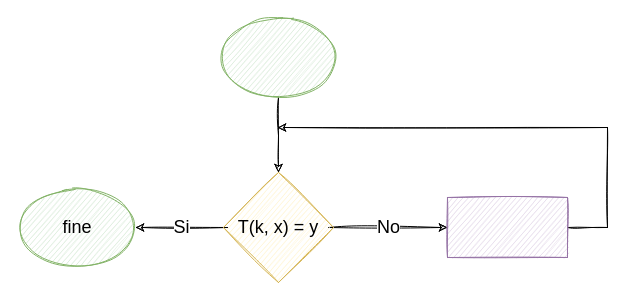
This 633x300 diagram has some shape labels left out. Each missing label, with the centre of its shape:
"k = k+1" belongs at [507,227].
"k=0" belongs at [278,57].
